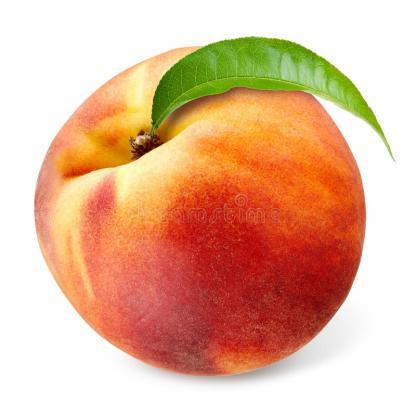Peach leaf: (140, 28, 396, 165)
